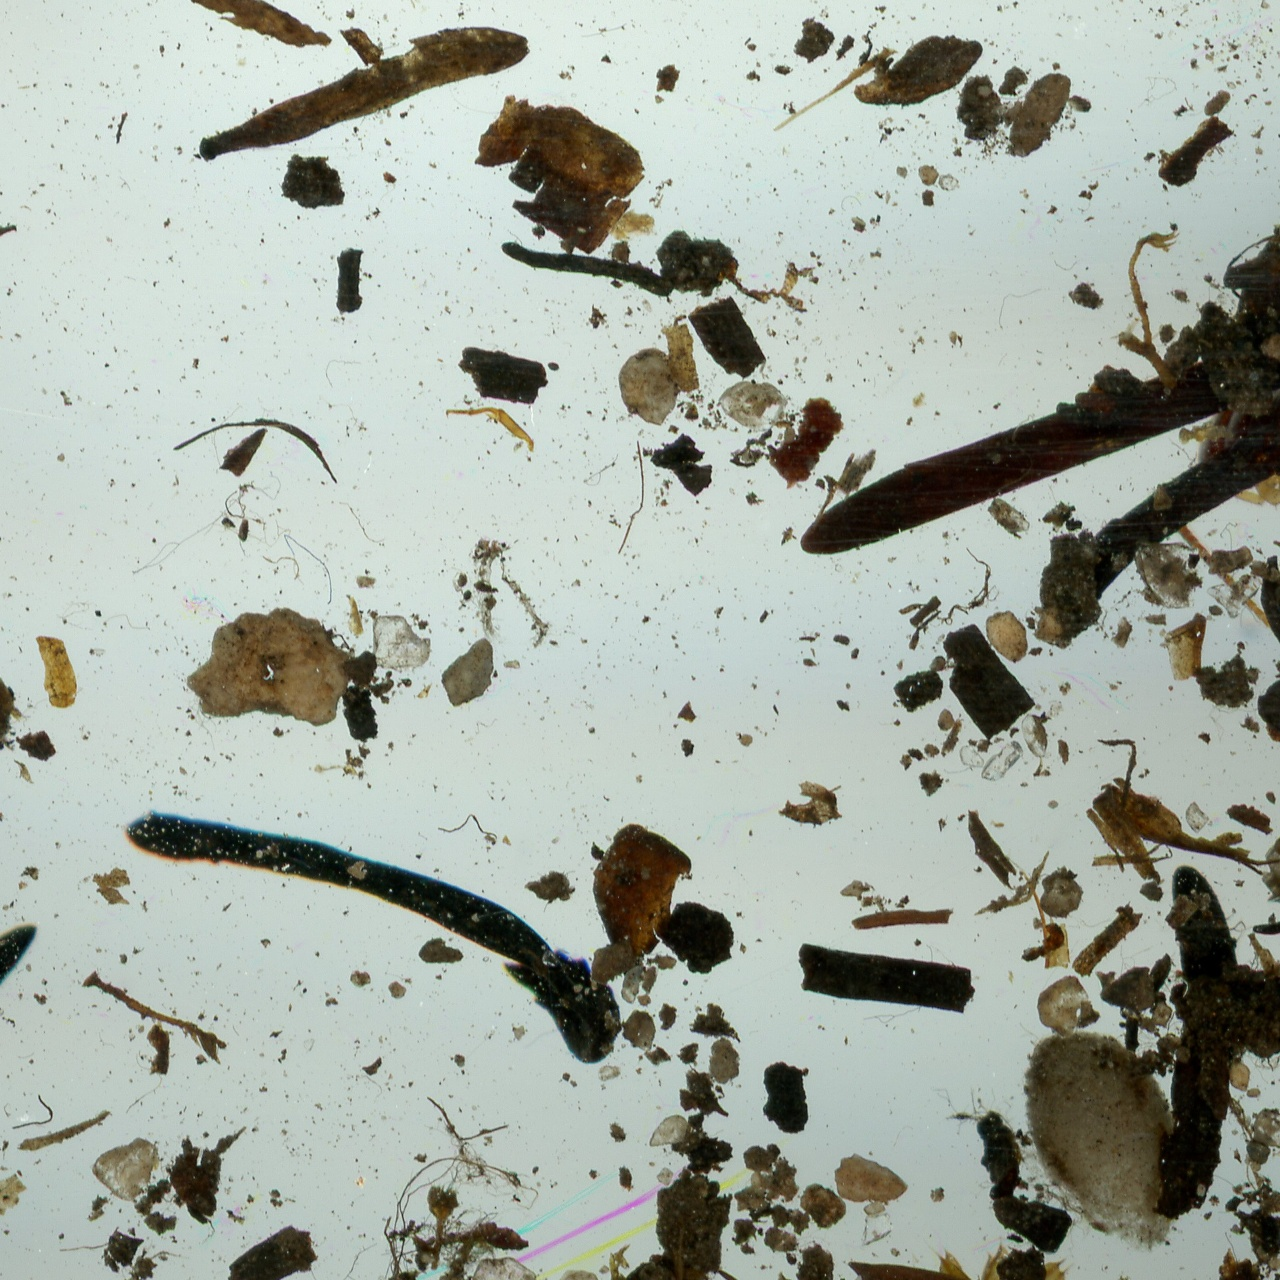arthropod: (1199, 346, 1280, 649)
